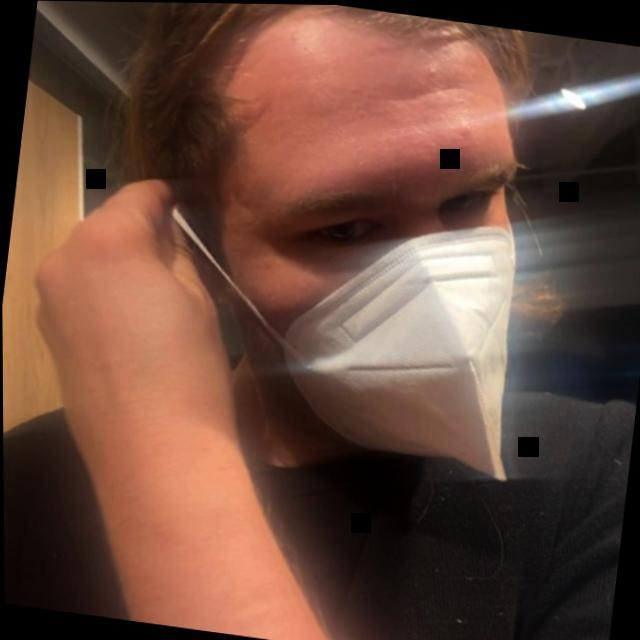Mask: (94, 1, 595, 452)
